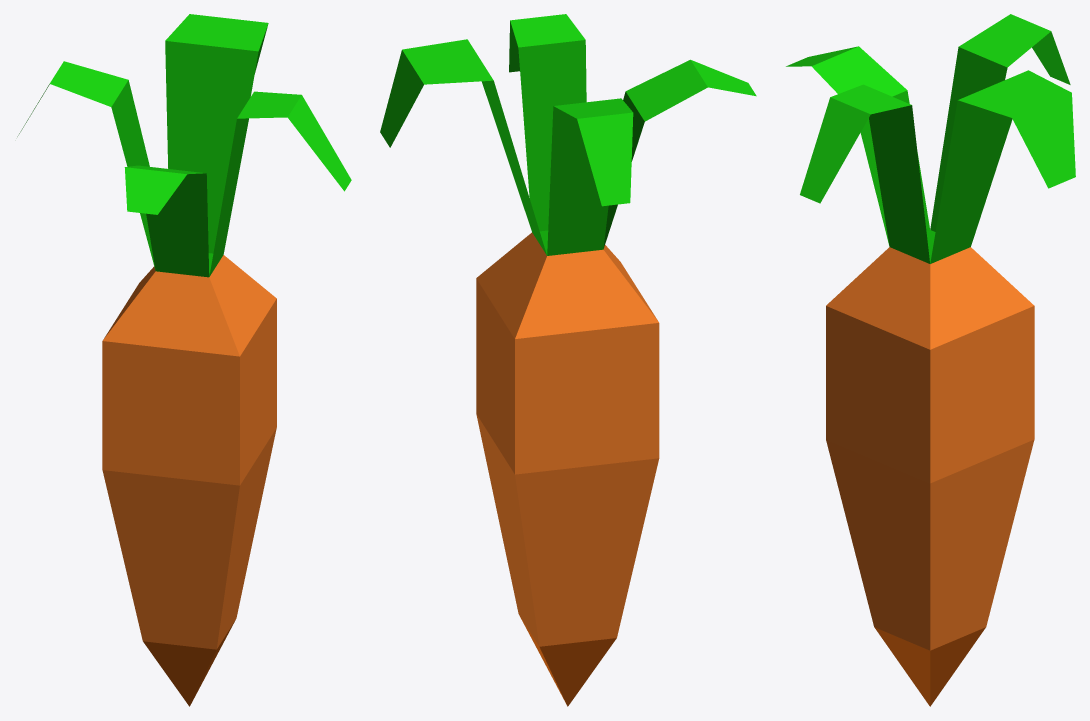
File: Carrot.fbx
The picture shows the model from 3 angles, left to right: view 1: azimuth 30°, elevation 25°; view 2: azimuth 150°, elevation 25°; view 3: azimuth 270°, elevation 25°; orthographic projection. The views are drawn at different scales.
Parts seen in each view (by area): view 1: Carrot; view 2: Carrot; view 3: Carrot.
Boxes of the visible parts, x1,y1,x2,y2 form: Carrot: (17,14,351,706); Carrot: (380,14,756,706); Carrot: (786,14,1075,706).
Size of the model in its own units: 3.94 by 9.71 by 3.94.
